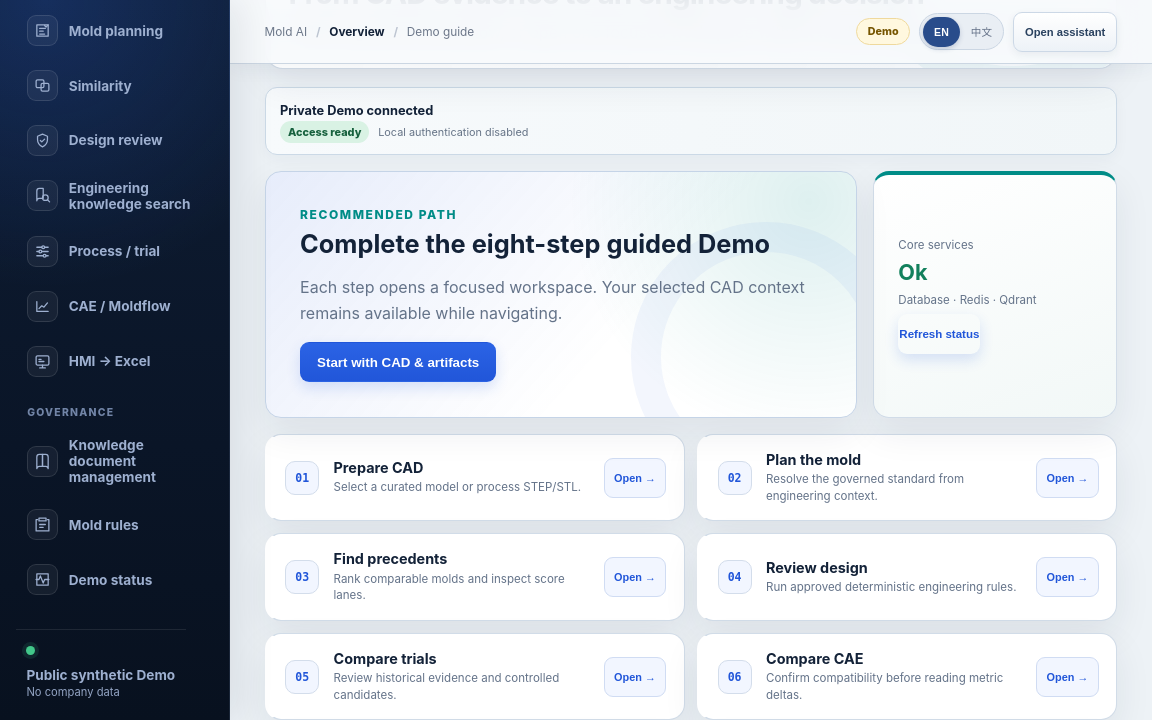
Test: App › navigates to a dedicated governance route without a full reload
The image size is (1152, 720).
(page scrolled)
Click the link to "/governance/rules" at (83, 525), box [27,509,139,540]
(page scrolled)
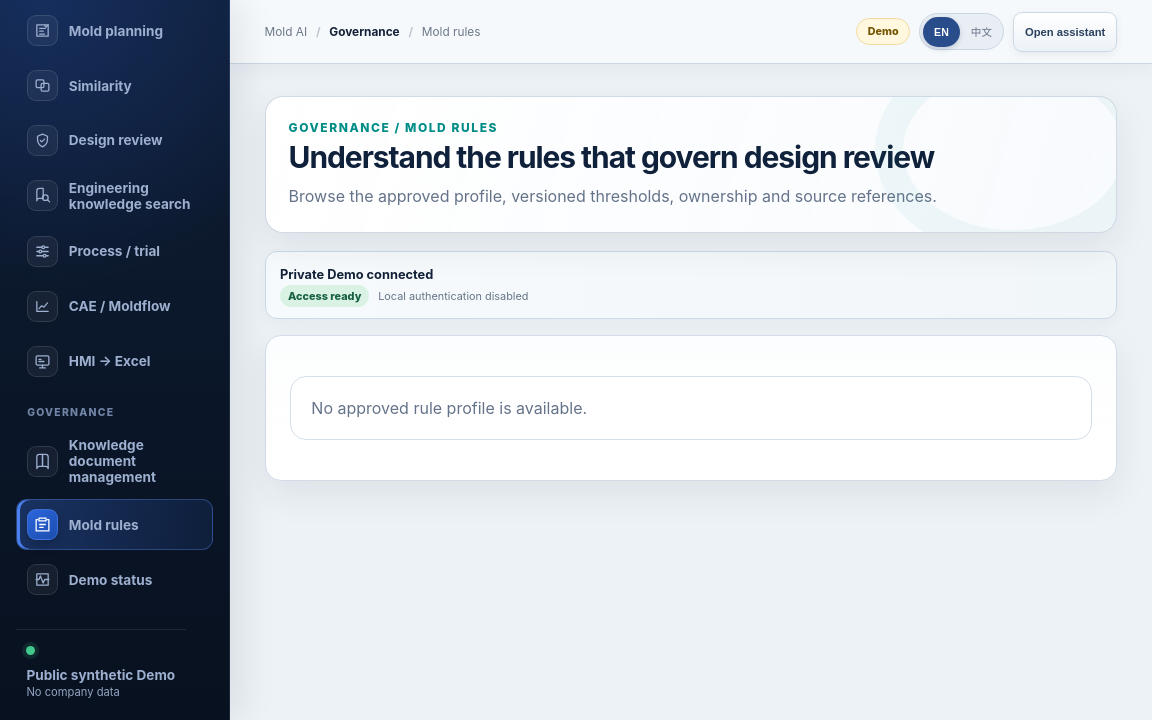
Expected: the text "Understand the rules that govern design review" is shown, [289,141,937,173]
